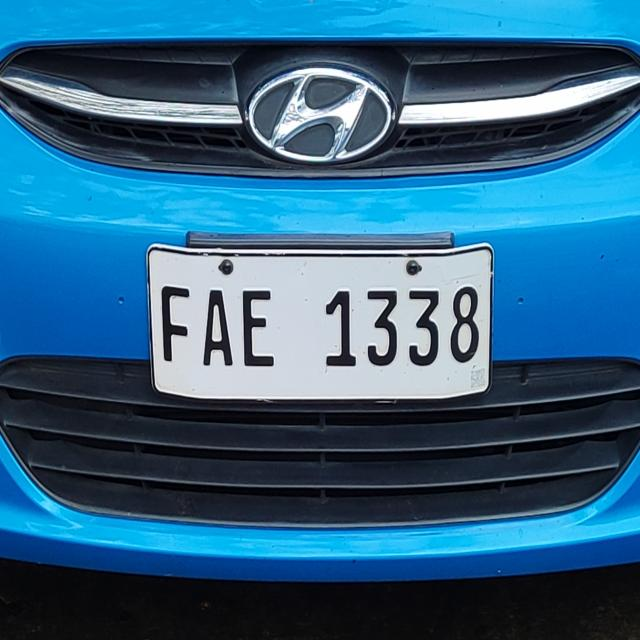plate: (144, 240, 497, 406)
